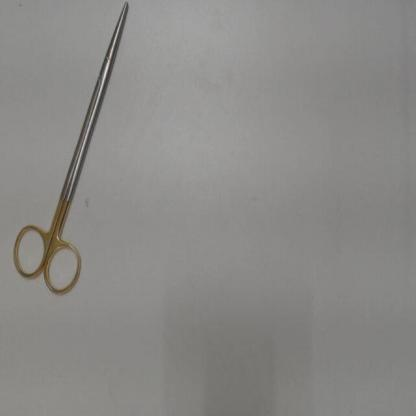7 Metzenbaum Scissors: (9, 2, 133, 304)
